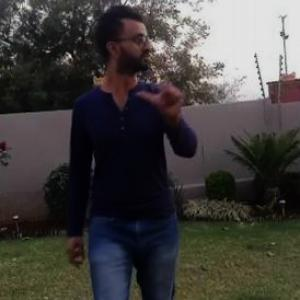land_hand: (138, 57, 192, 119)
